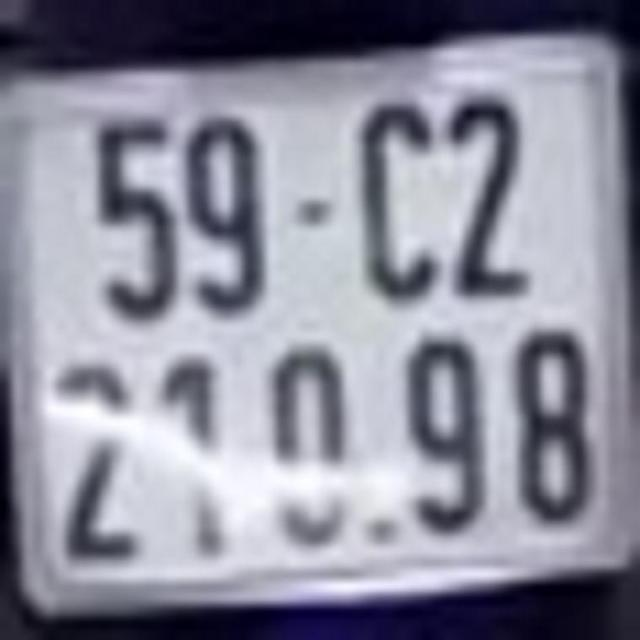0: (262, 335, 348, 548)
1: (156, 354, 231, 556)
2: (53, 358, 145, 558), (454, 106, 533, 304)
5: (91, 116, 185, 324)
8: (514, 323, 590, 520)
9: (403, 336, 490, 538), (189, 119, 267, 316)
C: (356, 100, 443, 300)
